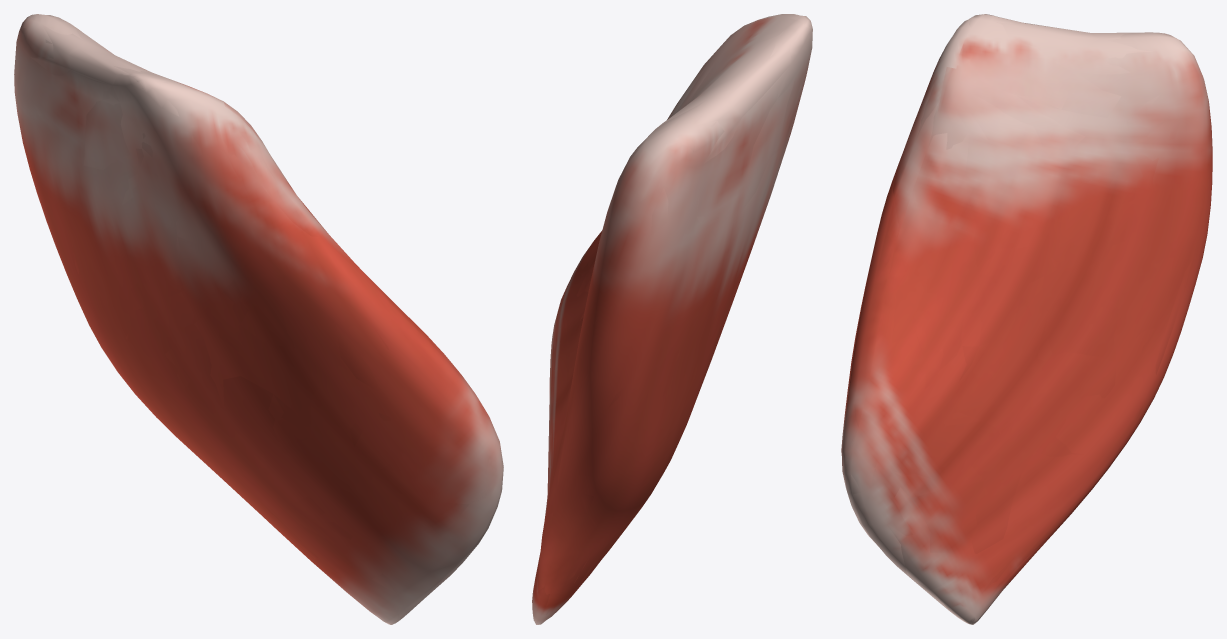
File: L Gracilis.fbx
The picture shows the model from 3 angles, left to right: view 1: azimuth 30°, elevation 25°; view 2: azimuth 150°, elevation 25°; view 3: azimuth 270°, elevation 25°; orthographic projection. The views are drawn at different scales.
Visible parts, largest first — view 1: L Gracilis, L Gracilis low; view 2: L Gracilis, L Gracilis low; view 3: L Gracilis, L Gracilis low.
Boxes of the visible parts, left/top/right/bottom form: L Gracilis: left=14, top=14, right=503, bottom=624; L Gracilis low: left=14, top=15, right=503, bottom=624; L Gracilis: left=532, top=14, right=812, bottom=624; L Gracilis low: left=532, top=16, right=809, bottom=614; L Gracilis: left=841, top=14, right=1212, bottom=624; L Gracilis low: left=841, top=14, right=1209, bottom=623.
Size of the model in its own units: 8.97 by 17.3 by 11.42.
